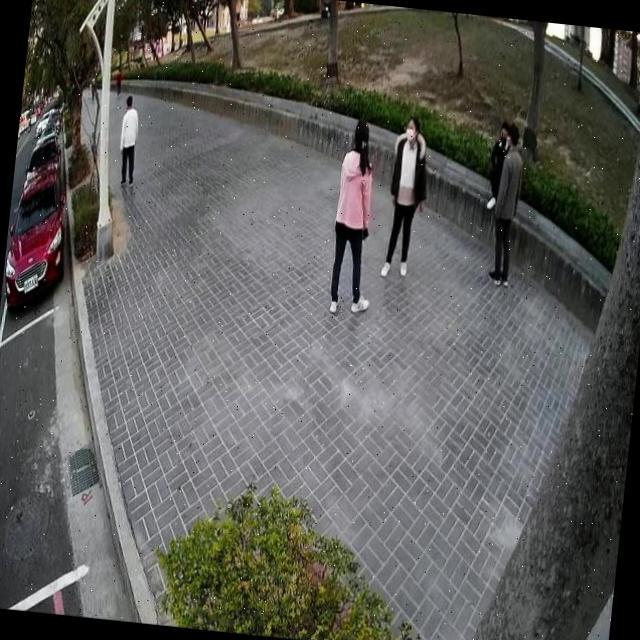person: (323, 112, 389, 318), (378, 106, 437, 284), (486, 120, 531, 288), (115, 92, 146, 192), (484, 115, 514, 212), (114, 65, 126, 99)
